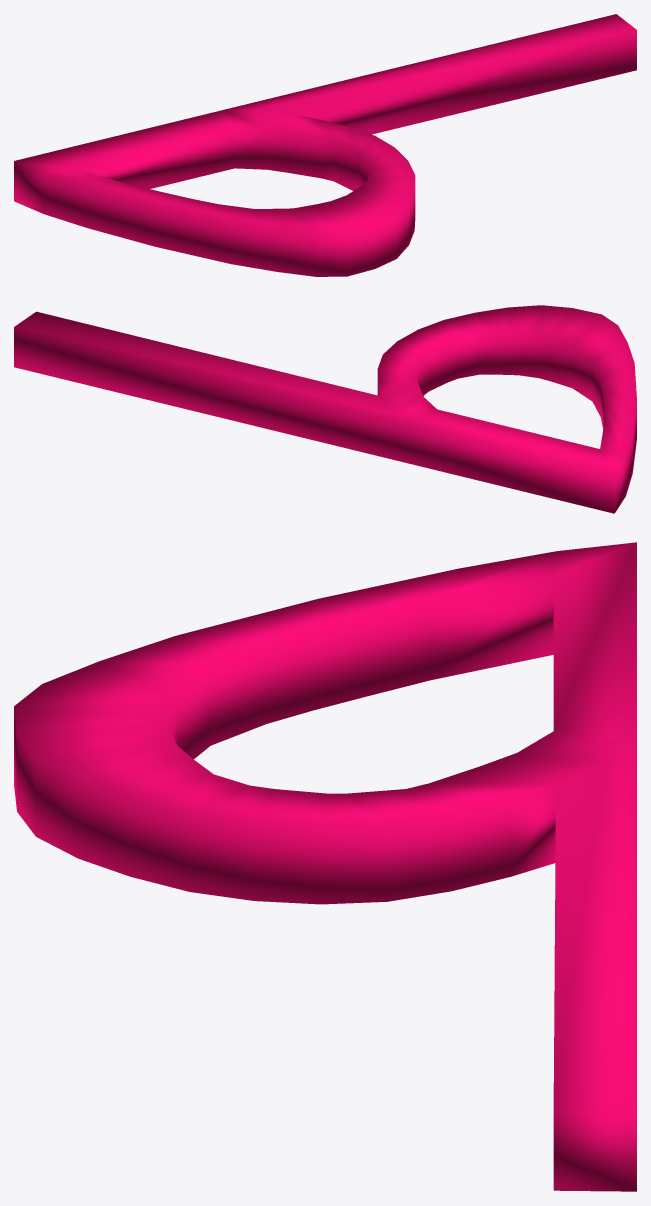
File: flat.fbx
3 renders of one model, top to bottom at view 1: azimuth 30°, elevation 25°; view 2: azimuth 150°, elevation 25°; view 3: azimuth 270°, elevation 25°, orthographic. The views are drawn at different scales.
Parts seen in each view (by area): view 1: Circle; view 2: Circle; view 3: Circle.
Part boxes in pixels (x1,y1,x2,y2): Circle: [14, 14, 636, 276]; Circle: [14, 305, 636, 513]; Circle: [14, 542, 636, 1191].
Size of the model in its own units: 395 by 25.26 by 182.
